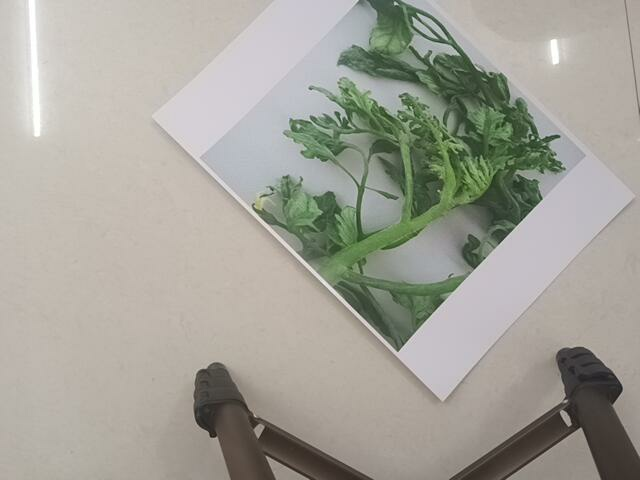Tomamto_Mosaic_virus: (257, 29, 545, 285)
